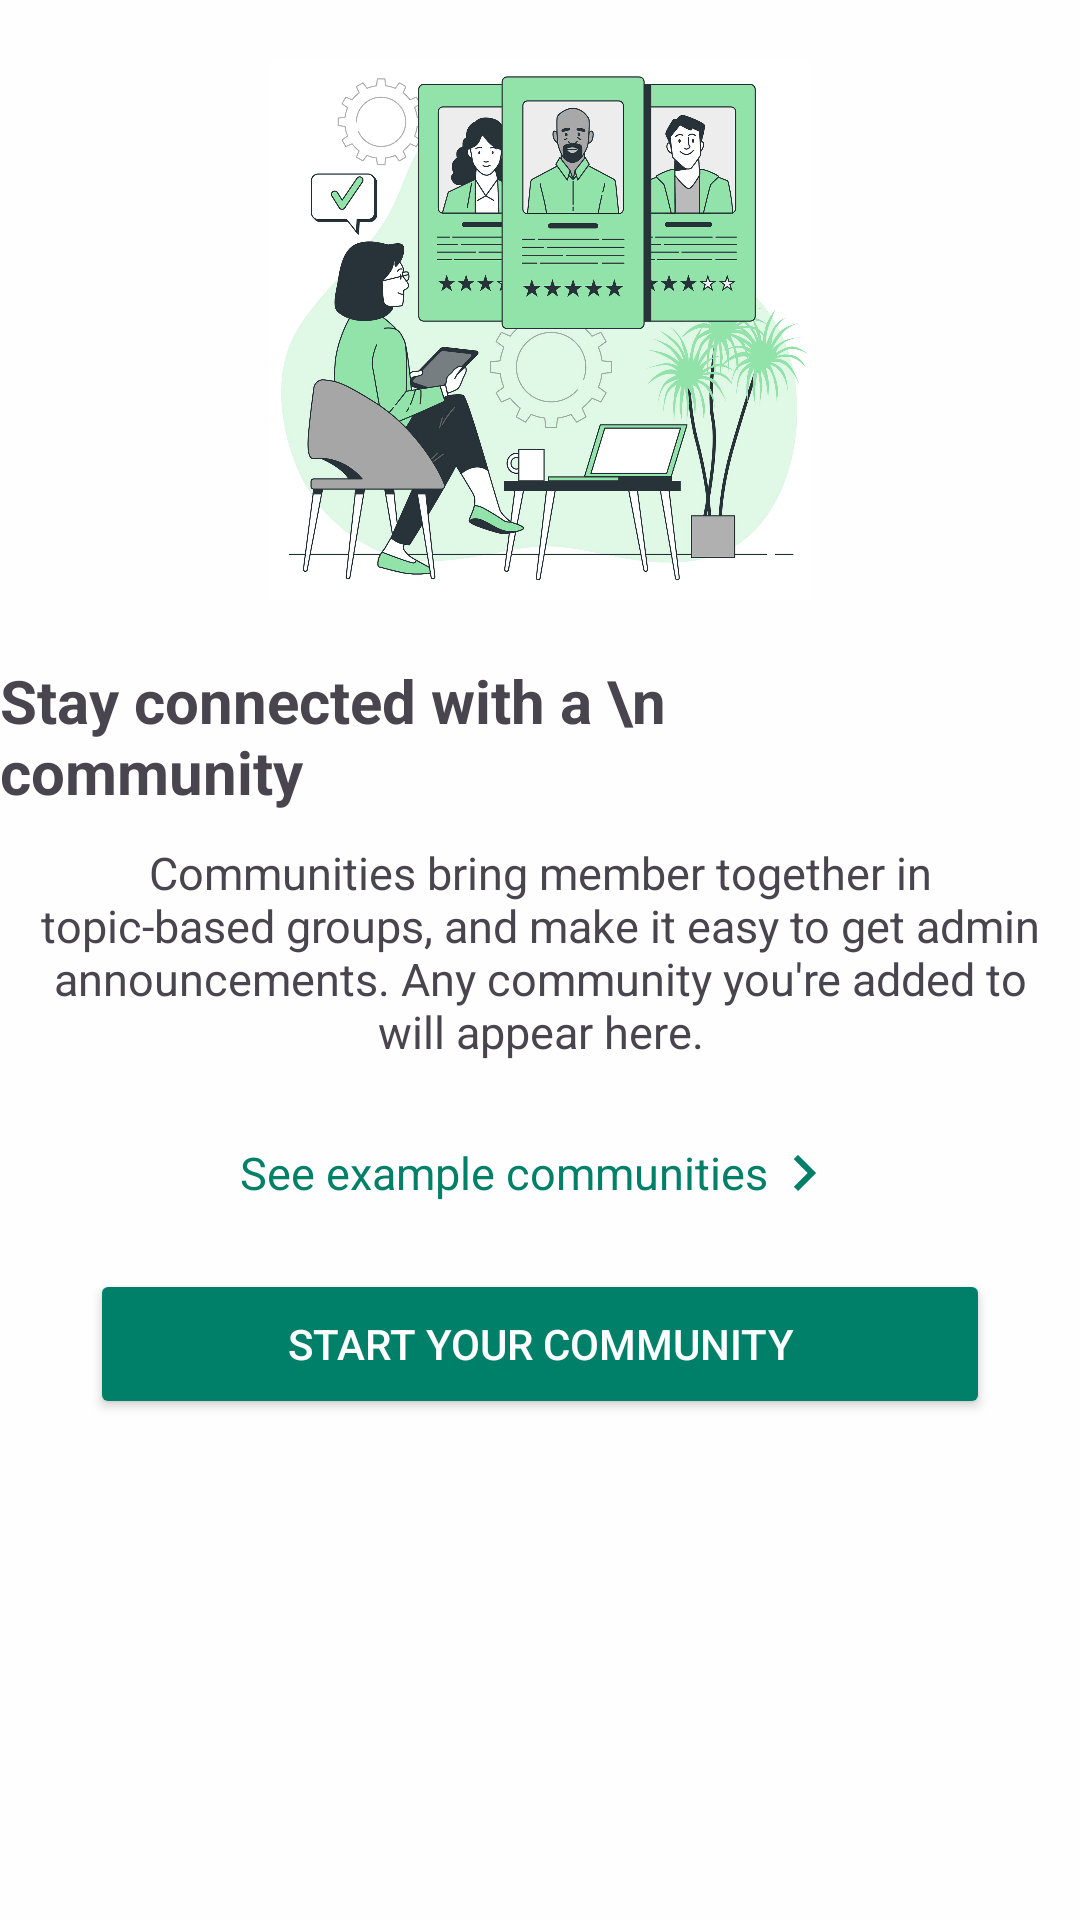

Point at icon controls on the screen. Image size 1080*1920, points as (x=x, y=y).
arrow right: (x=805, y=1173)
